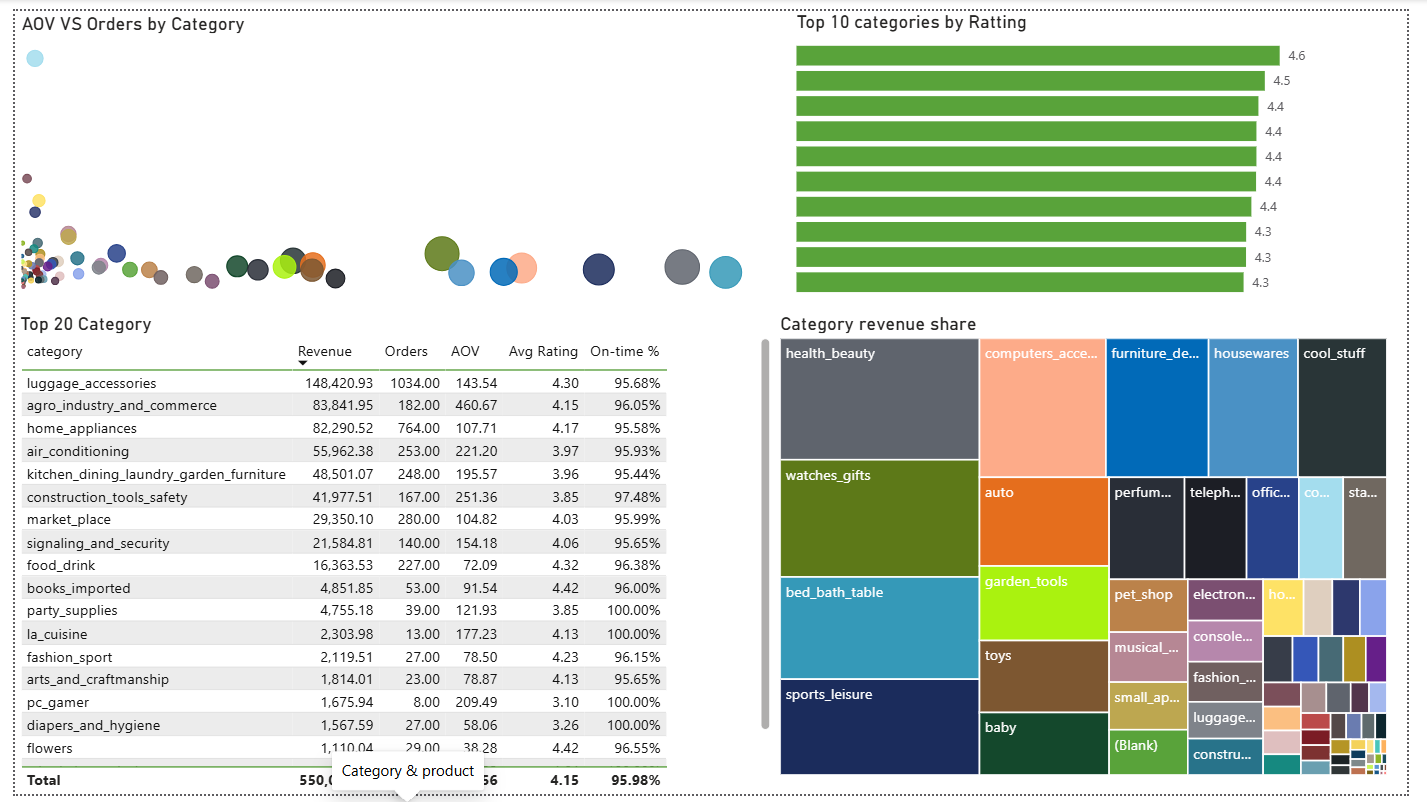

Layout of this report page (visuals, bound fields, positions):
{"tool":"powerbi","page":{"name":"Category & product","canvas":[1280,720],"ordinal":2},"visuals":[{"type":"treemap","title":"Category revenue share","fields":{"Group":["public bi_fact_sales.category"],"Values":["public bi_fact_sales.Revenue"]},"box":[699.1,277.3,567.9,430.7],"z":0},{"type":"scatterChart","title":"AOV VS Orders by Category","fields":{"X":["public bi_fact_sales.Orders"],"Y":["public bi_fact_sales.AOV"],"Series":["public bi_fact_sales.category"],"Size":["public bi_fact_sales.Revenue"]},"box":[1.5,1.5,697.7,264],"z":1000},{"type":"barChart","title":"Top 10 categories by Ratting","fields":{"Category":["public bi_fact_sales.category"],"Y":["public bi_fact_sales.Avg Rating"]},"box":[713.9,0,554.6,264],"z":2000},{"type":"tableEx","title":"Top 20 Category","fields":{"Values":["public bi_fact_sales.category","public bi_fact_sales.Revenue","public bi_fact_sales.Orders","public bi_fact_sales.AOV","public bi_fact_sales.Avg Rating","public bi_fact_sales.On-time %"]},"box":[0,276.8,699.4,443.6],"z":3000}]}

Visuals, with their boxes in screenshot pixels (x1, y1, x2, y2), scaled from the page's 1280x720 canvas onto the 1427x802 screenshot:
"Category revenue share" treemap: bbox(779, 309, 1413, 789)
"AOV VS Orders by Category" scatterChart: bbox(2, 2, 779, 296)
"Top 10 categories by Ratting" barChart: bbox(796, 0, 1414, 294)
"Top 20 Category" tableEx: bbox(0, 308, 780, 801)
